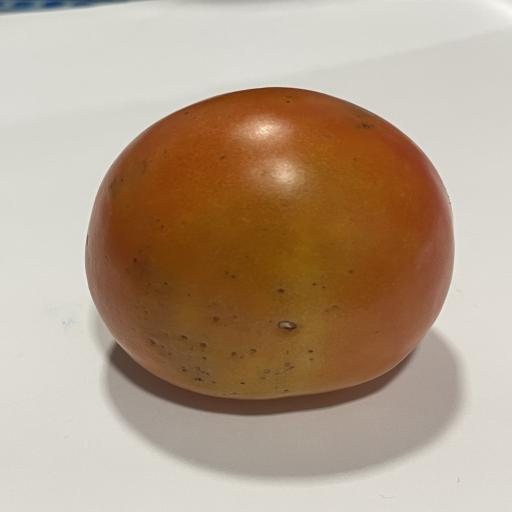unripe: (85, 87, 454, 400), (86, 88, 454, 399)
